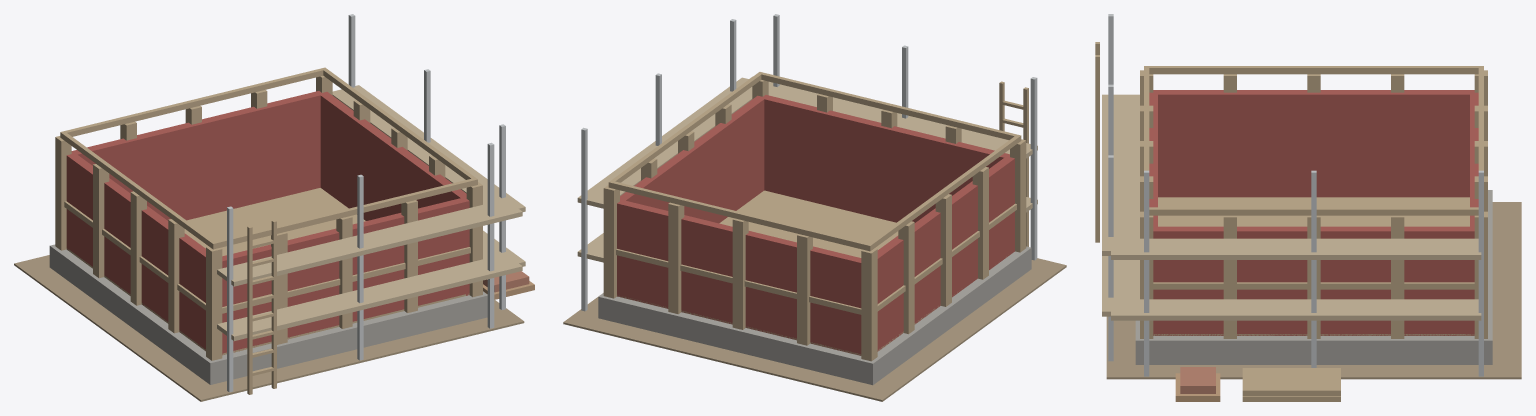
The model's file is cow_shed_site_7.glb.
3 renders of one model, left to right at view 1: azimuth 30°, elevation 25°; view 2: azimuth 150°, elevation 25°; view 3: azimuth 270°, elevation 25°, orthographic. The views are drawn at different scales.
Visible parts, largest first — view 1: body; view 2: body; view 3: body.
Boxes of the visible parts, x1,y1,x2,y2 form: body: (14, 14, 534, 401); body: (563, 14, 1066, 401); body: (1095, 14, 1521, 401).
Size of the model in its own units: 2.1 by 1.02 by 1.91.
